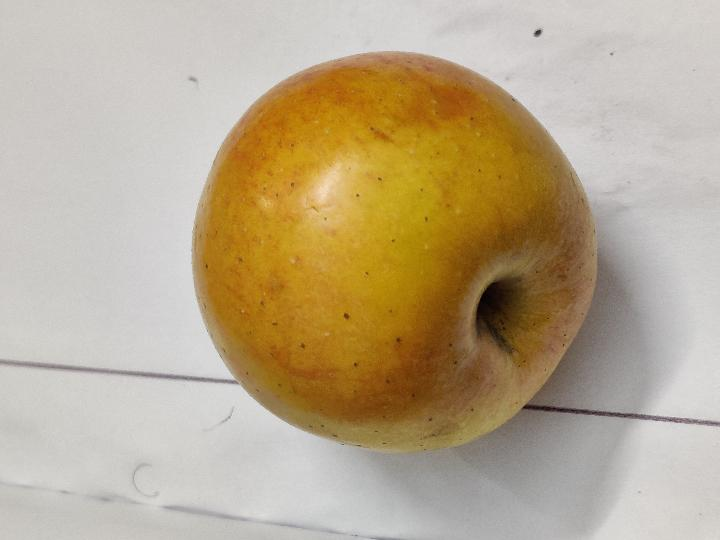apple: (193, 54, 596, 451)
